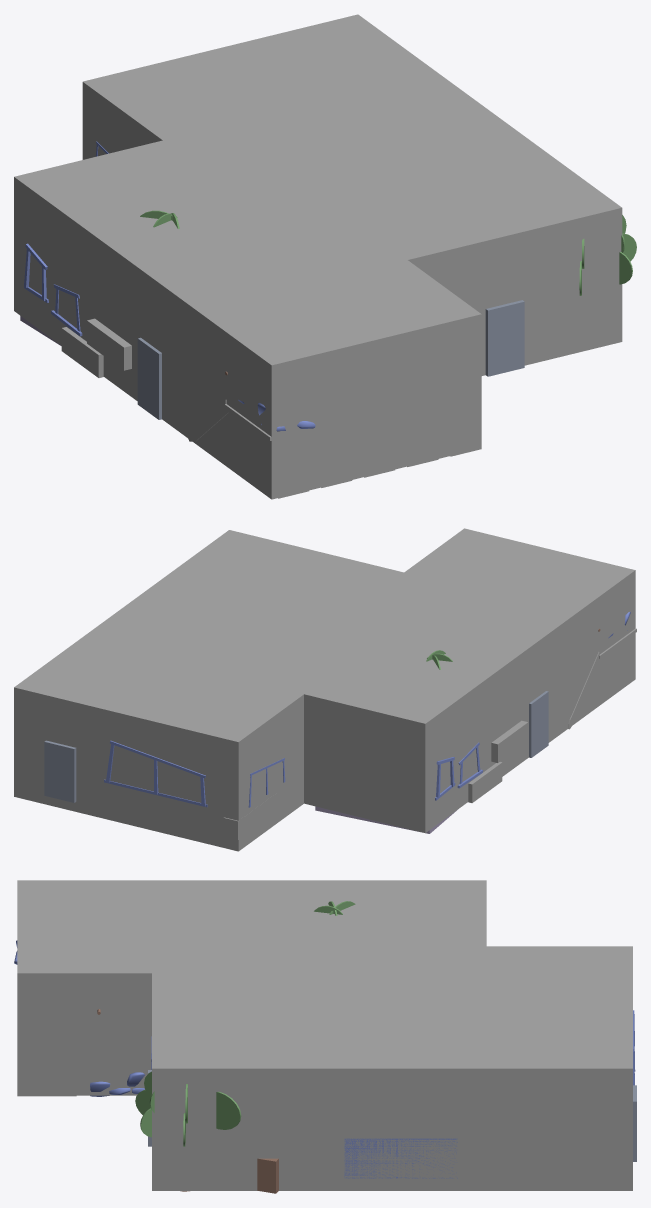
The model's file is daycare_blockout.fbx.
The picture shows the model from 3 angles, top to bottom: view 1: azimuth 30°, elevation 25°; view 2: azimuth 150°, elevation 25°; view 3: azimuth 270°, elevation 25°; orthographic projection. The views are drawn at different scales.
Parts seen in each view (by area): view 1: walls, pCube59, pCube60, kastje4, kastje3; view 2: walls, pCube88, pCube60, kastje2, pCube180, kastje4, kastje3, pCube46; view 3: walls, pCube122, pCube61, pCube47, pCube30, pCylinder8, pCube76.
Boxes of the visible parts, x1,y1,x2,y2 form: walls: [14, 14, 622, 499]; pCube59: [485, 300, 524, 376]; pCube60: [137, 337, 161, 419]; kastje4: [87, 318, 131, 370]; kastje3: [61, 327, 103, 377]; walls: [14, 528, 635, 851]; pCube88: [44, 740, 76, 802]; pCube60: [529, 691, 548, 757]; kastje2: [223, 793, 276, 839]; pCube180: [44, 741, 73, 801]; kastje4: [491, 720, 528, 762]; kastje3: [468, 762, 502, 802]; pCube46: [14, 761, 32, 789]; walls: [17, 880, 632, 1190]; pCube122: [344, 1138, 456, 1175]; pCube61: [344, 1138, 457, 1178]; pCube47: [559, 1108, 632, 1127]; pCube30: [17, 1084, 76, 1096]; pCylinder8: [216, 1091, 241, 1129]; pCube76: [257, 1158, 278, 1193].
Bounding box in the file's own units: 35.39 × 12.01 × 45.16.
